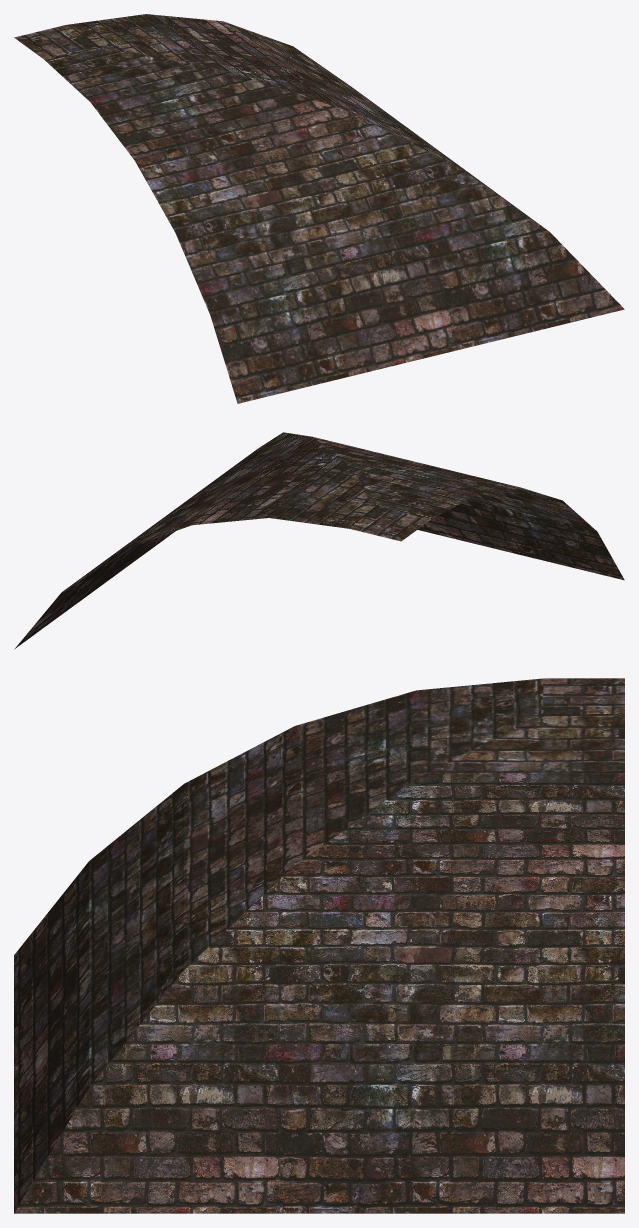
The model's file is ceiling01_corner_concave.DAE.
3 renders of one model, top to bottom at view 1: azimuth 30°, elevation 25°; view 2: azimuth 150°, elevation 25°; view 3: azimuth 270°, elevation 25°, orthographic. The views are drawn at different scales.
Visible parts, largest first — view 1: ceiling01_corner_concave; view 2: ceiling01_corner_concave; view 3: ceiling01_corner_concave.
Boxes of the visible parts, <box> form: ceiling01_corner_concave: <box>14,14,624,403</box>; ceiling01_corner_concave: <box>14,432,624,649</box>; ceiling01_corner_concave: <box>14,678,624,1213</box>.
Size of the model in its own units: 4 by 2 by 4.
